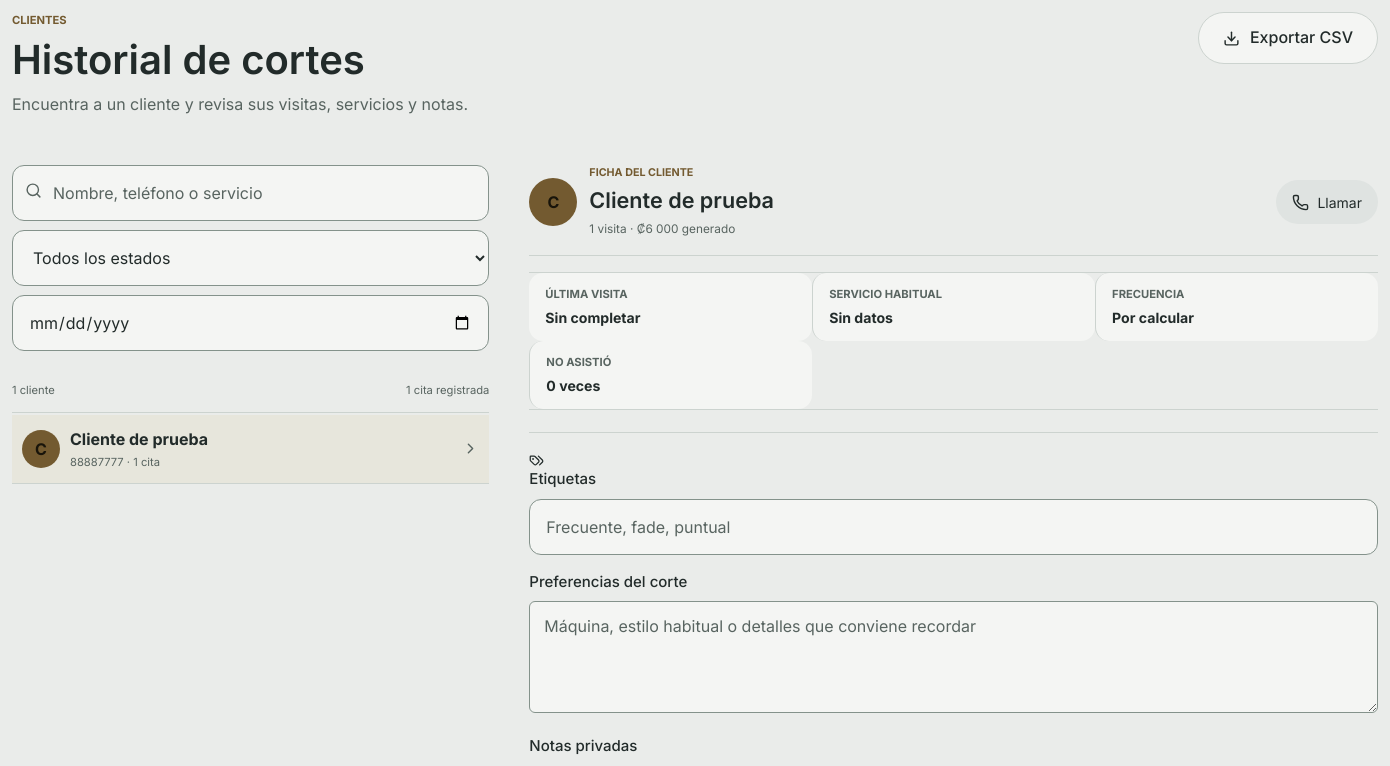
Scenario: distingue una búsqueda vacía de un directorio sin clientes
Expected: the text "1 cliente" is shown, [12, 382, 55, 399]
Type "sin resultados" into the field named "Buscar cliente" at (251, 193), box [12, 165, 489, 221]
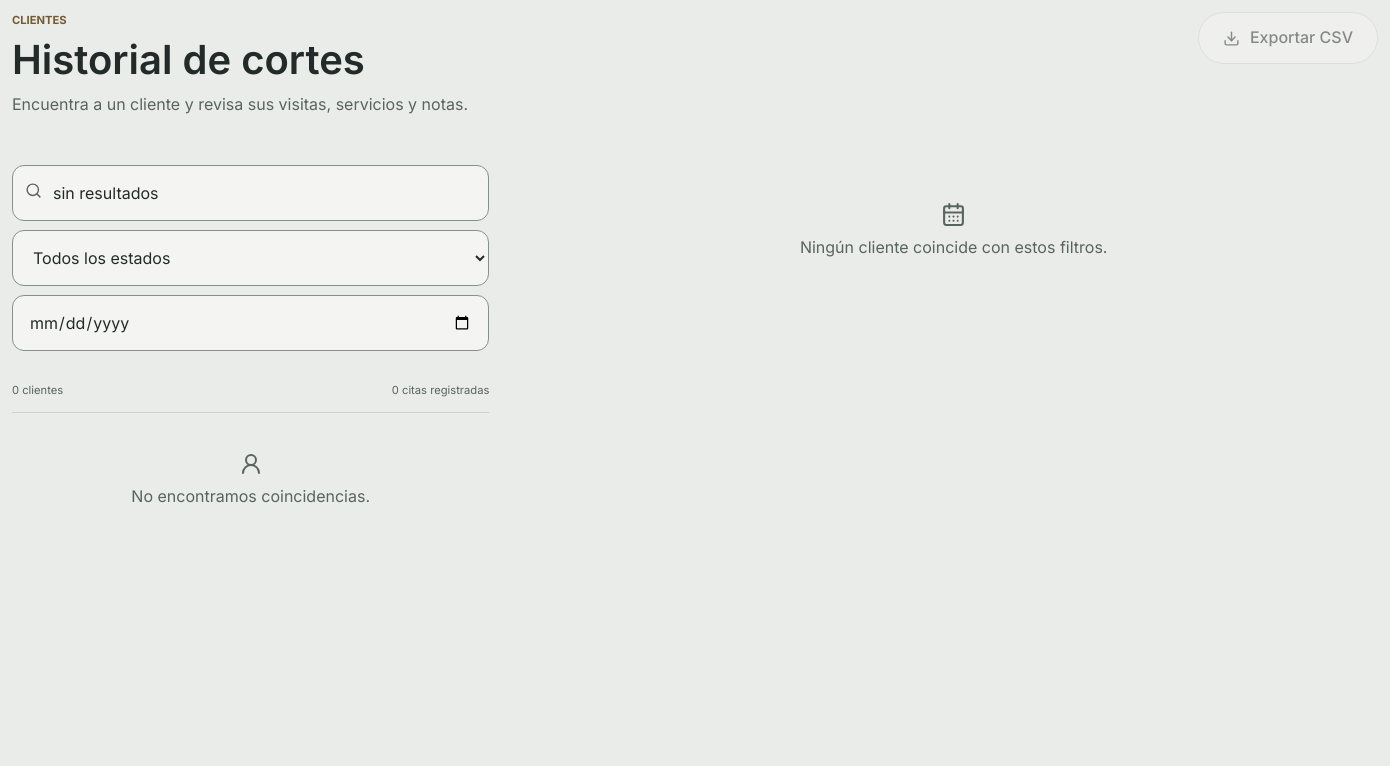
Result: the text "Ningún cliente coincide con estos filtros." is shown at [800, 235, 1107, 259]
